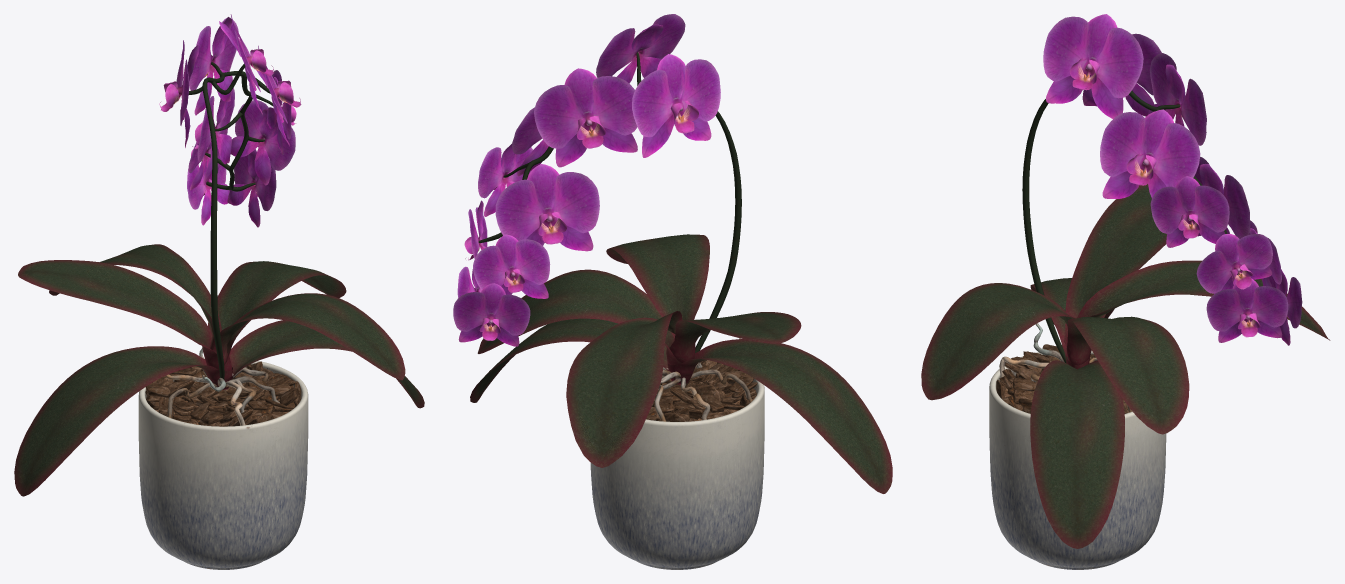
File: phalaenopsis-orchid.glb
The picture shows the model from 3 angles, left to right: view 1: azimuth 30°, elevation 25°; view 2: azimuth 150°, elevation 25°; view 3: azimuth 270°, elevation 25°; orthographic projection. The views are drawn at different scales.
Visible parts, largest first — view 1: Pot, leaf1.002, leaf1.004, leaf1.005, leaf1.003, leaf1.001, stem, Plane.012, leaf1.006, Plane.006, Plane.013, roots__0 (+8 smaller); view 2: Pot, leaf1.006, leaf1.002, Plane.006, Plane.009, Plane.005, leaf1.003, leaf1.005, Plane.007, Plane.014, Plane.008, leaf1.004 (+6 smaller); view 3: Pot, leaf1.001, leaf1.003, leaf1.005, Plane.008, Plane.010, leaf1.004, Plane.011, leaf1.006, Plane.013, Plane.012, Plane.006 (+6 smaller).
Boxes of the visible parts, x1,y1,x2,y2 form: Pot: (138, 361, 308, 569); leaf1.002: (14, 346, 232, 496); leaf1.004: (18, 260, 228, 369); leaf1.005: (213, 293, 405, 380); leaf1.003: (208, 261, 346, 371); leaf1.001: (212, 320, 424, 408); stem: (202, 71, 252, 379); Plane.012: (230, 100, 295, 185); leaf1.006: (49, 244, 221, 350); Plane.006: (189, 17, 238, 115); Plane.013: (227, 149, 276, 227); roots__0: (165, 348, 279, 425); Pot: (590, 379, 764, 569); leaf1.006: (566, 311, 682, 467); leaf1.002: (667, 339, 892, 493); Plane.006: (534, 68, 637, 167); Plane.009: (495, 164, 599, 251); Plane.005: (632, 54, 720, 157); leaf1.003: (477, 269, 681, 364); leaf1.005: (606, 234, 709, 340); Plane.007: (473, 234, 550, 298); Plane.014: (453, 283, 530, 346); Plane.008: (596, 14, 685, 83); leaf1.004: (669, 312, 801, 362); Pot: (989, 350, 1166, 569); leaf1.001: (1030, 360, 1124, 548); leaf1.003: (1066, 316, 1189, 434); leaf1.005: (921, 283, 1074, 400); Plane.008: (1043, 14, 1143, 118); Plane.010: (1100, 109, 1200, 198); leaf1.004: (1064, 184, 1166, 347); Plane.011: (1150, 176, 1229, 247); leaf1.006: (1077, 260, 1330, 340); Plane.013: (1206, 278, 1288, 342); Plane.012: (1196, 233, 1272, 294); Plane.006: (1148, 53, 1206, 145).
Size of the model in its own units: 0.2969 by 0.369 by 0.2538.
Materials: 1 (1 with a texture image).
